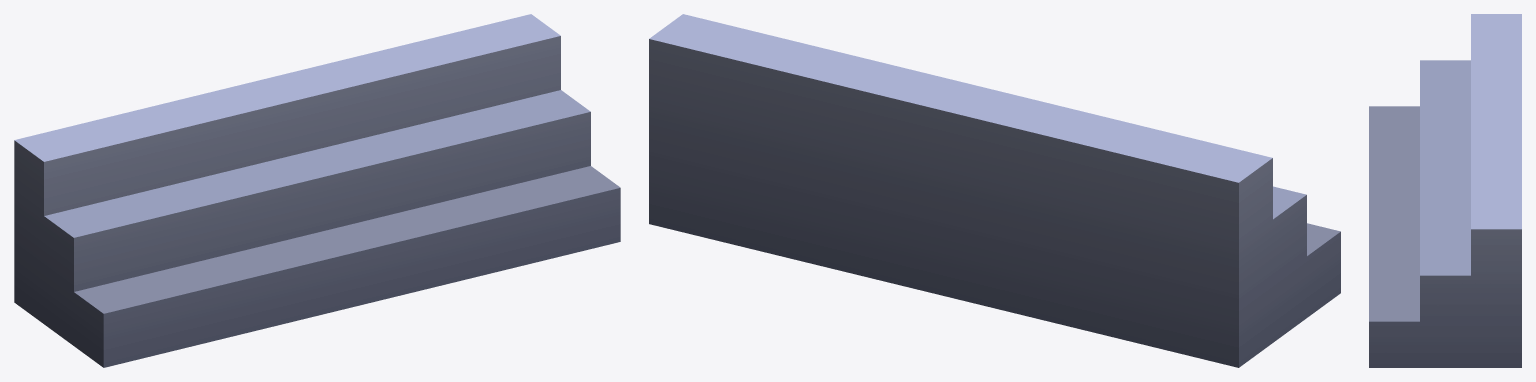
The model's file is kenney-space-station-stairs-small-center.glb.
3 views of the same model, side by side, from view 1: azimuth 30°, elevation 25°; view 2: azimuth 150°, elevation 25°; view 3: azimuth 270°, elevation 25° (orthographic). The views are drawn at different scales.
Visible parts, largest first — view 1: stairs-small-center; view 2: stairs-small-center; view 3: stairs-small-center.
Boxes of the visible parts, <box> form: stairs-small-center: <box>14,14,620,367</box>; stairs-small-center: <box>649,14,1340,367</box>; stairs-small-center: <box>1369,14,1521,367</box>.
Size of the model in its own units: 1 by 0.3 by 0.3.
Materials: 1 (1 with a texture image).
